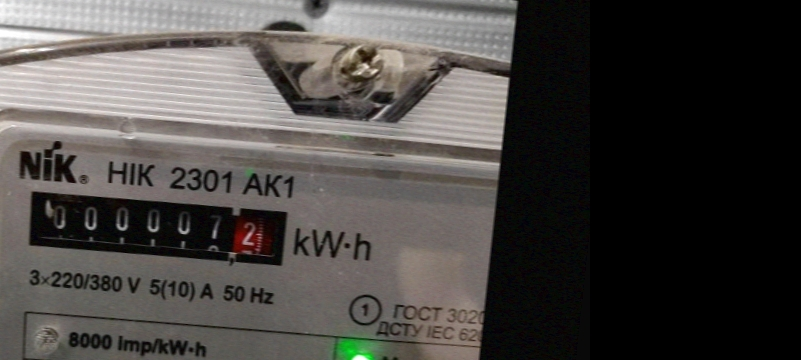0: (48, 199, 68, 228), (142, 203, 162, 232), (80, 200, 99, 229), (111, 201, 130, 230), (174, 206, 192, 235)
2: (239, 218, 257, 245)
7: (205, 208, 223, 239)
screen: (13, 175, 299, 276)
